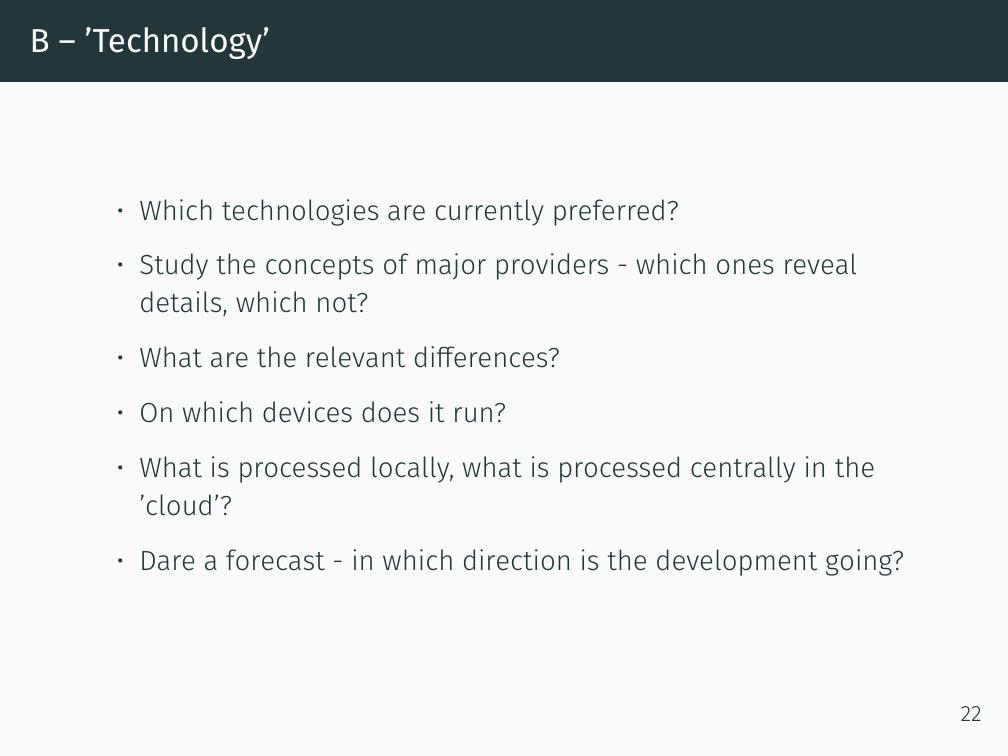Title: (25, 18, 271, 64)
